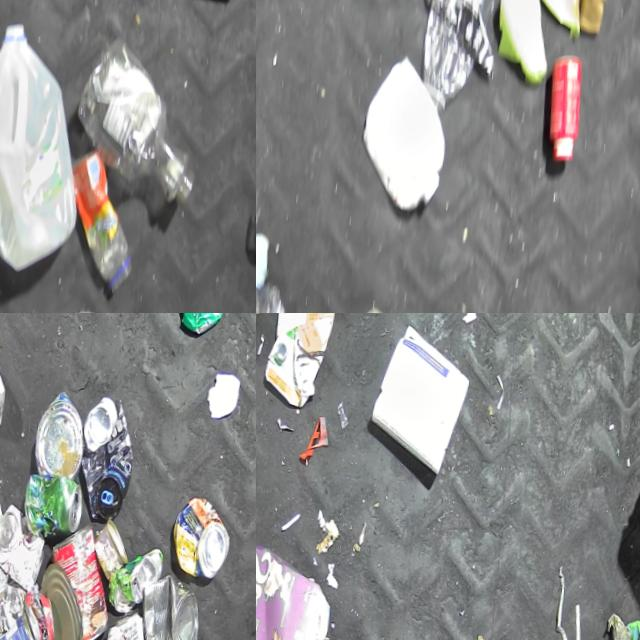can: (46, 519, 120, 640), (77, 391, 141, 518), (173, 491, 238, 576), (138, 567, 207, 640), (34, 386, 90, 475), (0, 498, 53, 589), (36, 560, 94, 640), (27, 468, 90, 536), (112, 540, 168, 612), (95, 515, 136, 578), (104, 606, 163, 640), (0, 348, 11, 426)
milk_jug: (0, 13, 97, 270), (358, 49, 456, 212)
non_white_jug: (256, 529, 337, 640), (261, 313, 339, 403)
plastic_bottle: (72, 29, 210, 202), (418, 0, 508, 112), (256, 271, 297, 313)
